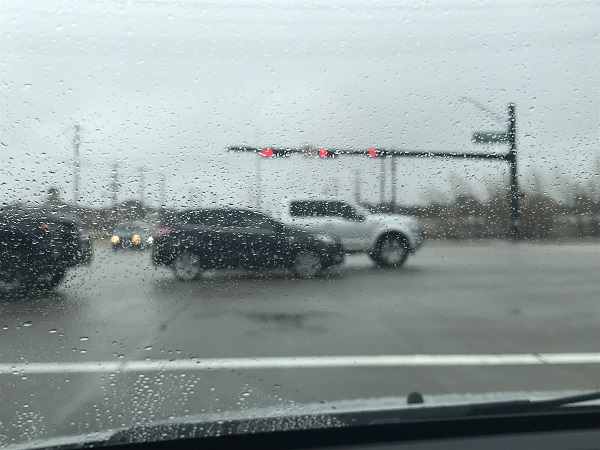car: (156, 209, 342, 277), (108, 222, 145, 250)
truck: (272, 193, 424, 267), (7, 206, 91, 297)
